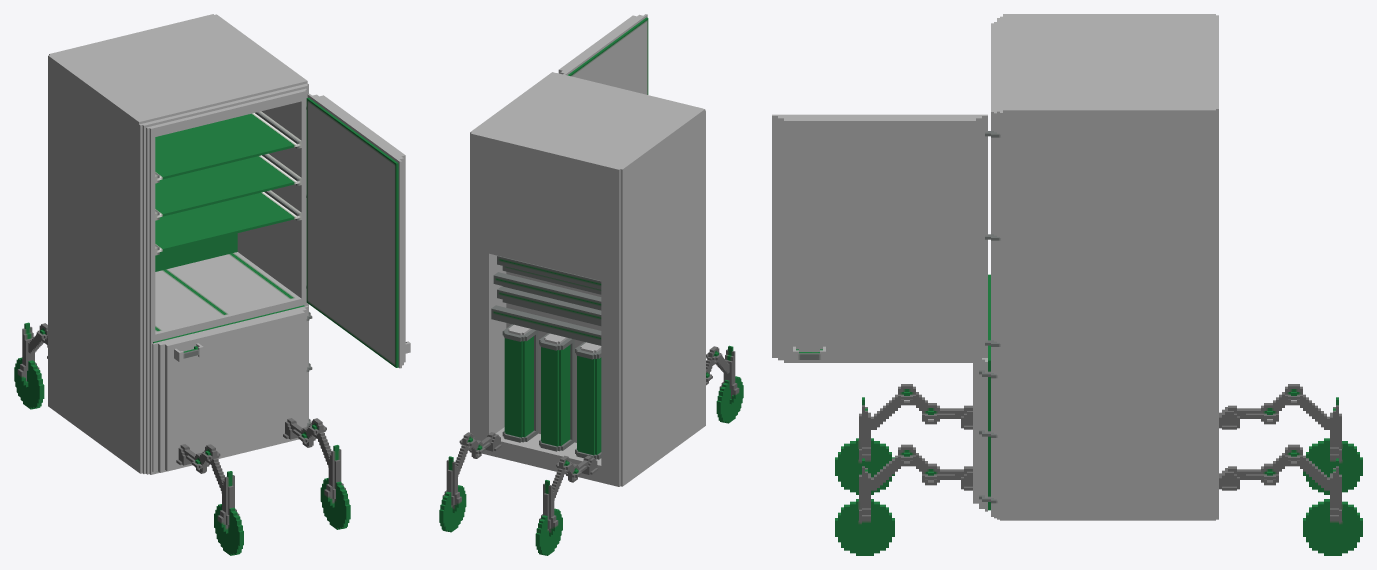
The model's file is Enemy-15-FridgeEasy.fbx.
3 views of the same model, side by side, from view 1: azimuth 30°, elevation 25°; view 2: azimuth 150°, elevation 25°; view 3: azimuth 270°, elevation 25° (orthographic). The views are drawn at different scales.
Parts seen in each view (by area): view 1: FridgeEasy; view 2: FridgeEasy; view 3: FridgeEasy.
Part boxes in pixels (bbox=[...]): FridgeEasy: bbox=[14, 14, 410, 555]; FridgeEasy: bbox=[439, 14, 743, 555]; FridgeEasy: bbox=[772, 14, 1362, 555].
Size of the model in its own units: 82 by 170 by 197.
Materials: 1 (1 with a texture image).
